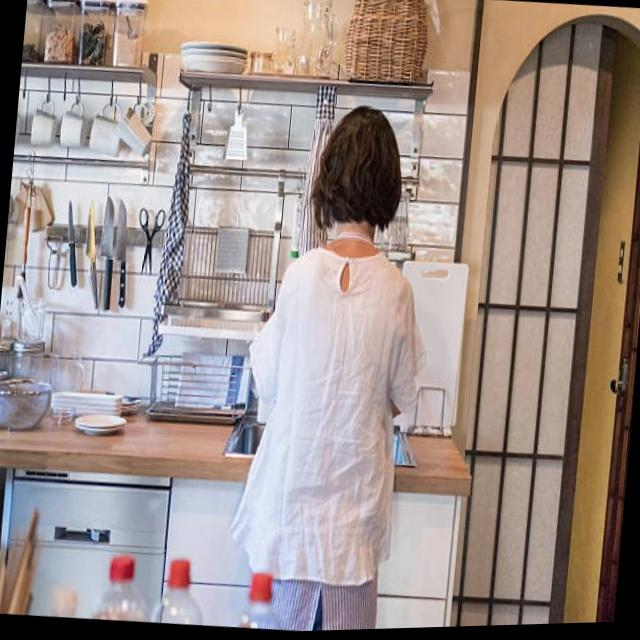no helmet: (302, 97, 416, 294)
